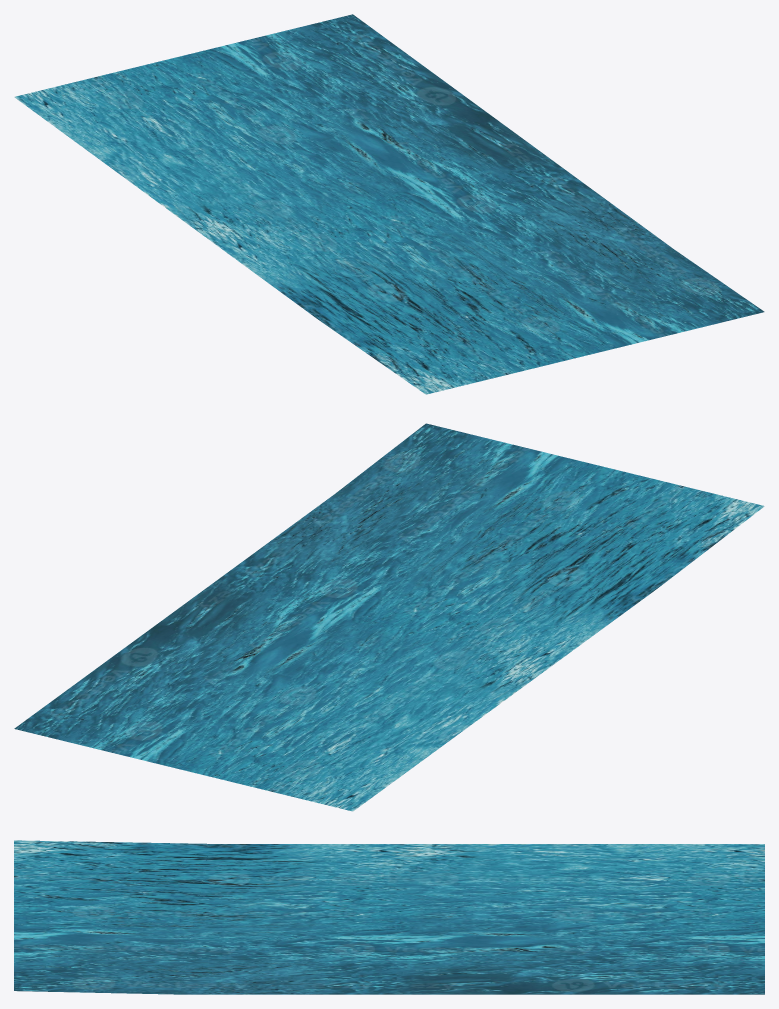
File: river.glb
The picture shows the model from 3 angles, top to bottom: view 1: azimuth 30°, elevation 25°; view 2: azimuth 150°, elevation 25°; view 3: azimuth 270°, elevation 25°; orthographic projection. The views are drawn at different scales.
Visible parts, largest first — view 1: river; view 2: river; view 3: river.
Boxes of the visible parts, bbox=[...] form: river: bbox=[14, 14, 764, 394]; river: bbox=[14, 423, 764, 811]; river: bbox=[14, 840, 764, 994].
Bounding box in the file's own units: 2 × 0.0218 × 4.21.
Materials: 1 (1 with a texture image).
